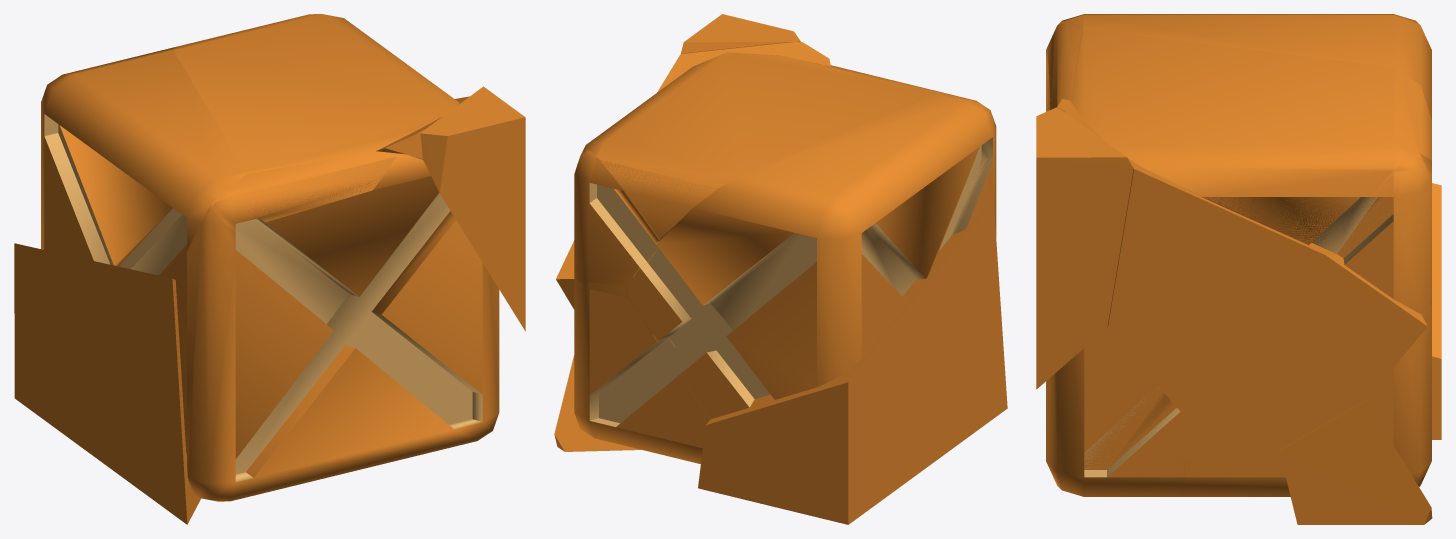
Rendered from BoxDeneme4.fbx.
3 views of the same model, side by side, from view 1: azimuth 30°, elevation 25°; view 2: azimuth 150°, elevation 25°; view 3: azimuth 270°, elevation 25° (orthographic). The views are drawn at different scales.
Visible parts, largest first — view 1: Box.001_cell.074, Box.001_cell.053, Box.001_cell.073, Box.001_cell.060, Box.001_cell.070, Box.001_cell.028, Box.001_cell.068; view 2: Box.001_cell.053, Box.001_cell.073, Box.001_cell.060, Box.001_cell.065, Box.001_cell.074, Box.001_cell.071, Box.001_cell.068, Box.001_cell.070, Box.001_cell.067; view 3: Box.001_cell.068, Box.001_cell.060, Box.001_cell.067, Box.001_cell.074, Box.001_cell.070, Box.001_cell.053, Box.001_cell.071, Box.001_cell.073, Box.001_cell.066, Box.001_cell.028, Box.001_cell.054.
Part boxes in pixels (left/top/right/bottom): Box.001_cell.074: left=42, top=47, right=499, bottom=501; Box.001_cell.053: left=41, top=47, right=245, bottom=453; Box.001_cell.073: left=14, top=243, right=200, bottom=524; Box.001_cell.060: left=174, top=14, right=458, bottom=173; Box.001_cell.070: left=420, top=86, right=525, bottom=331; Box.001_cell.028: left=217, top=157, right=395, bottom=230; Box.001_cell.068: left=376, top=96, right=469, bottom=159; Box.001_cell.053: left=627, top=94, right=995, bottom=419; Box.001_cell.073: left=698, top=202, right=1007, bottom=524; Box.001_cell.060: left=586, top=52, right=939, bottom=251; Box.001_cell.065: left=589, top=289, right=709, bottom=448; Box.001_cell.074: left=574, top=52, right=996, bottom=464; Box.001_cell.071: left=574, top=147, right=658, bottom=284; Box.001_cell.068: left=556, top=42, right=830, bottom=334; Box.001_cell.070: left=681, top=14, right=800, bottom=53; Box.001_cell.067: left=554, top=335, right=675, bottom=451; Box.001_cell.068: left=1057, top=98, right=1427, bottom=450; Box.001_cell.060: left=1071, top=29, right=1431, bottom=253; Box.001_cell.067: left=1084, top=197, right=1432, bottom=524; Box.001_cell.074: left=1046, top=14, right=1431, bottom=496; Box.001_cell.070: left=1036, top=107, right=1133, bottom=389; Box.001_cell.053: left=1062, top=14, right=1431, bottom=120; Box.001_cell.071: left=1372, top=153, right=1431, bottom=313; Box.001_cell.073: left=1432, top=183, right=1441, bottom=439; Box.001_cell.066: left=1084, top=198, right=1393, bottom=476; Box.001_cell.028: left=1047, top=26, right=1057, bottom=109; Box.001_cell.054: left=1178, top=485, right=1266, bottom=496.
Bounding box in the file's own units: 210 × 210 × 210.
